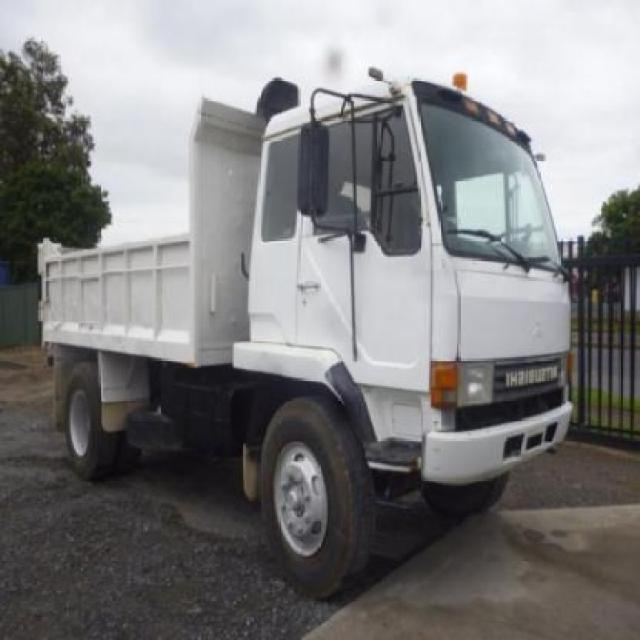truck: (36, 67, 576, 597)
